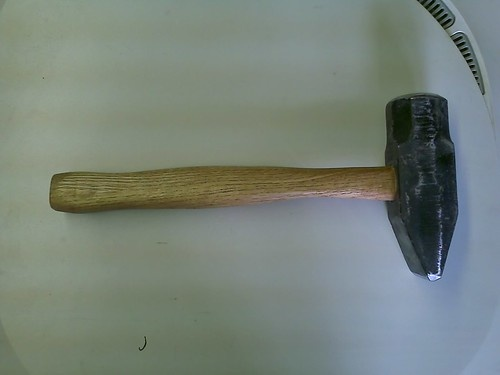hammer: (48, 90, 460, 282)
